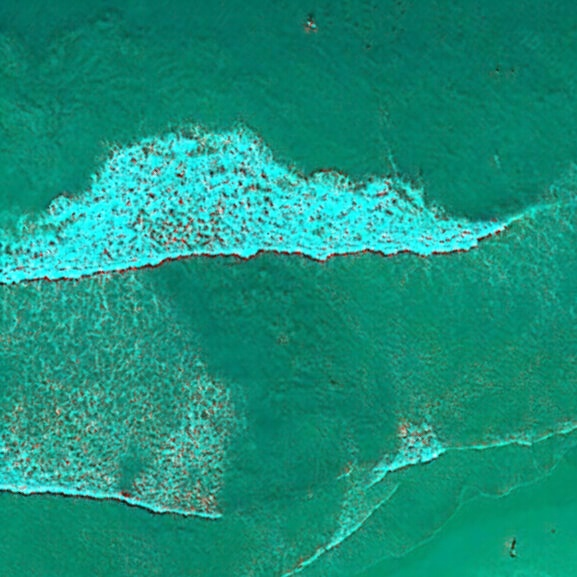rip_current: (132, 202, 355, 488)
